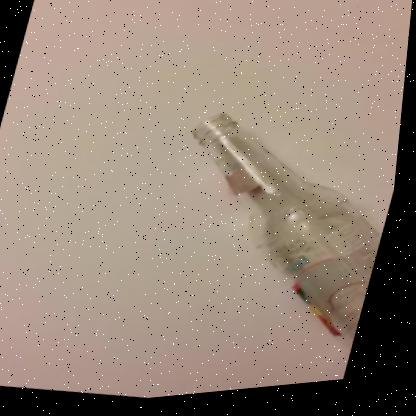Glass: (194, 118, 386, 358)
